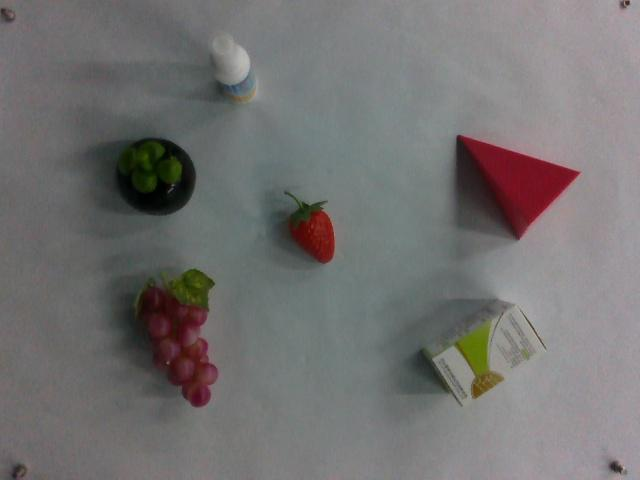carton: (419, 301, 547, 411)
detergent: (209, 29, 260, 111)
grape: (132, 268, 219, 411)
mangosteen: (115, 137, 199, 216)
pyramid: (450, 137, 581, 244)
strawberry: (281, 187, 341, 265)
